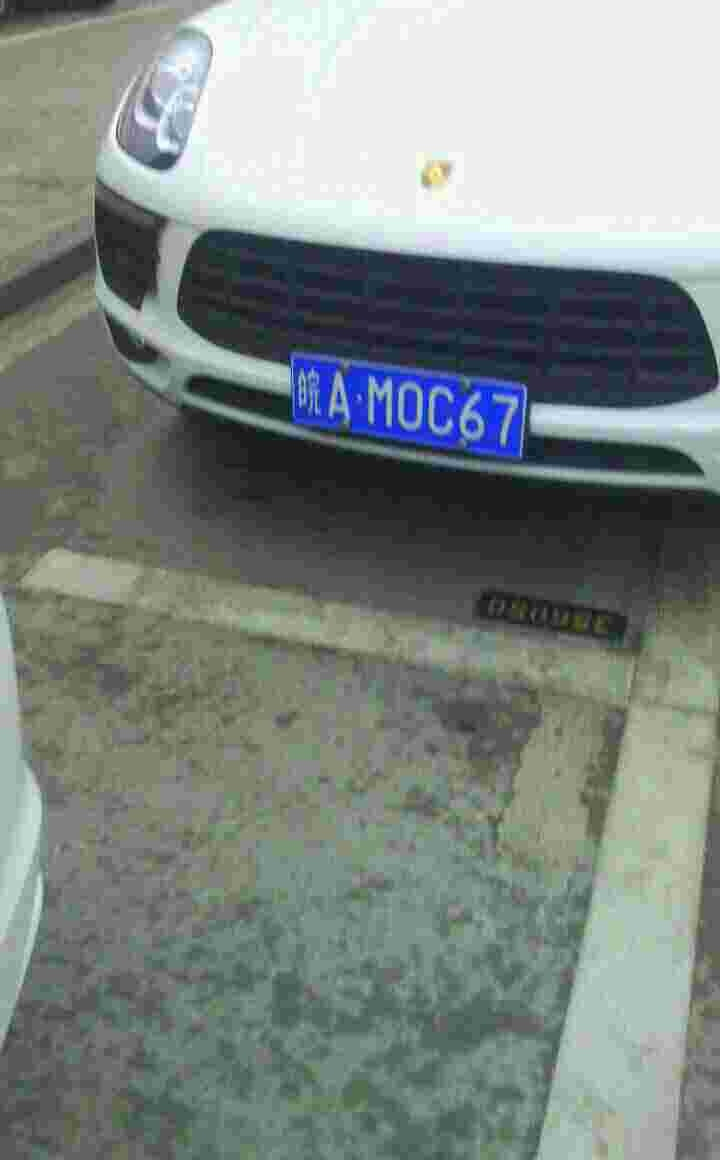license_plate: (287, 357, 523, 466)
